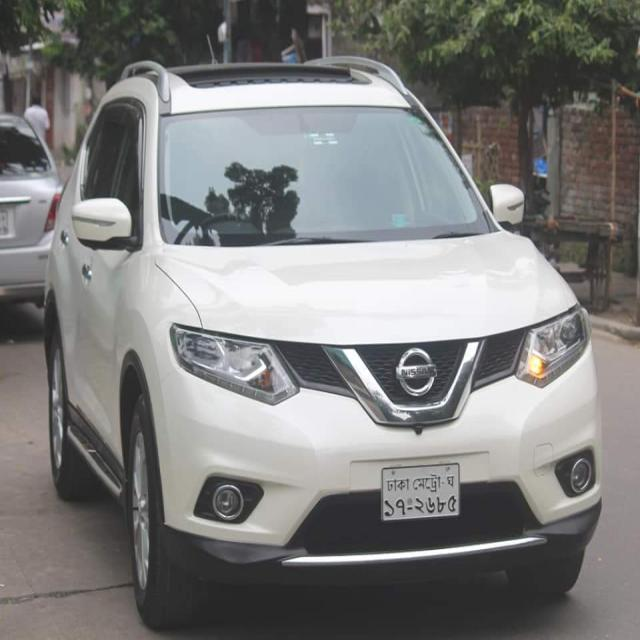silver: (0, 93, 54, 302)
white: (45, 89, 606, 578)
